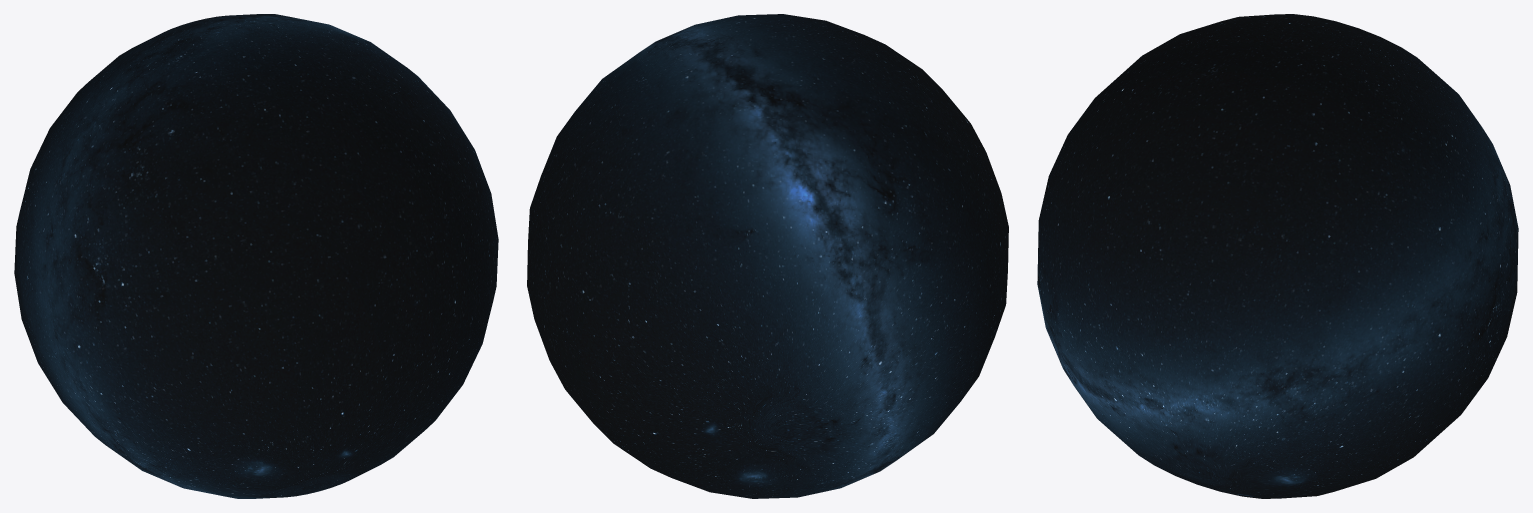
File: galaxy-sphere-compressed.glb
3 renders of one model, left to right at view 1: azimuth 30°, elevation 25°; view 2: azimuth 150°, elevation 25°; view 3: azimuth 270°, elevation 25°, orthographic.
Parts seen in each view (by area): view 1: Object_4; view 2: Object_4; view 3: Object_4.
Part boxes in pixels (x1,y1,x2,y2): Object_4: (14, 14, 498, 498); Object_4: (527, 14, 1008, 498); Object_4: (1037, 14, 1518, 498).
Size of the model in its own units: 61.06 by 61.4 by 60.9.
Materials: 1 (1 with a texture image).
